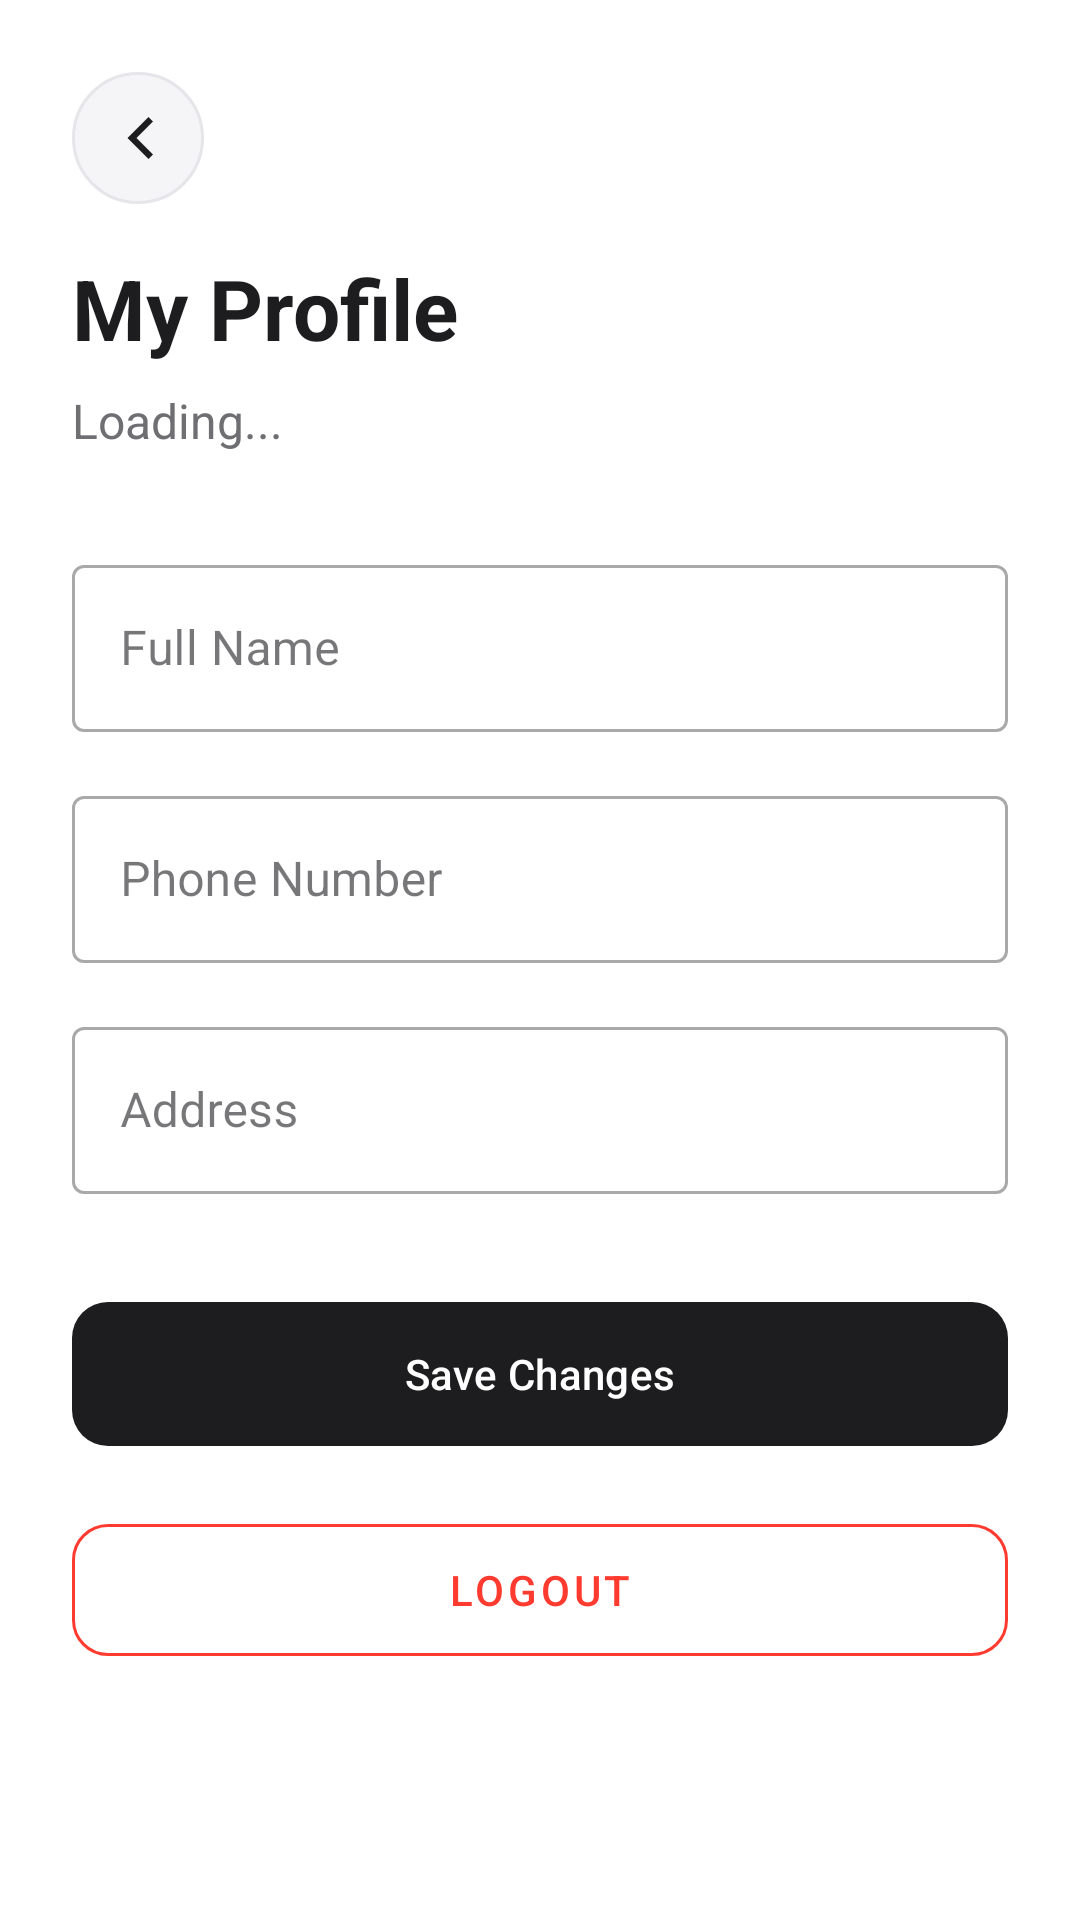

Named icons in this screenshot (1080 x 1920) and their centers, (x=x, y=y):
Back: (x=138, y=138)
